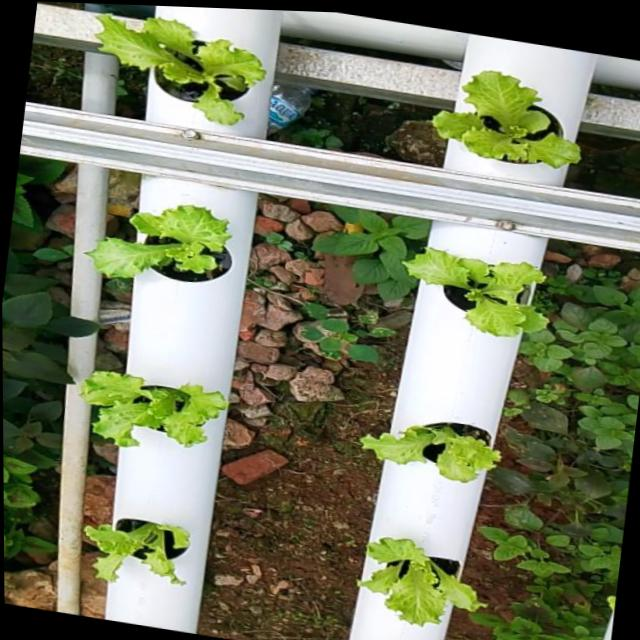Baby: (85, 19, 256, 131), (425, 72, 574, 186), (394, 248, 543, 339), (84, 205, 232, 283), (79, 372, 228, 449), (358, 539, 487, 627), (360, 423, 501, 483), (84, 520, 189, 586)
